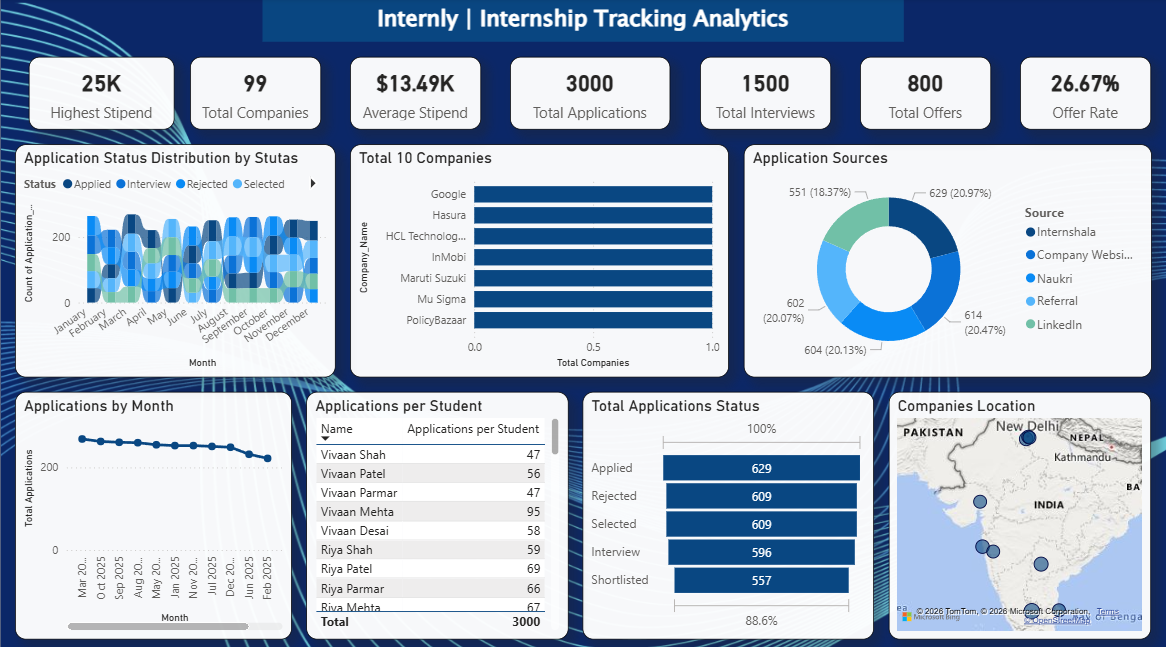

The page's visual inventory and layout, read from the dashboard file:
{"tool":"powerbi","page":{"name":"Page 1","canvas":[1280,720],"ordinal":0},"visuals":[{"type":"card","fields":{"Values":["applications.Total Applications"]},"box":[560,64,176,80],"z":0},{"type":"lineChart","title":"Applications by Month","fields":{"Y":["applications.Total Applications"],"Category":["applications.Month"]},"box":[16,432,304,272],"z":0},{"type":"card","fields":{"Values":["companies.Total Companies"]},"box":[208,64,144,80],"z":1000},{"type":"clusteredBarChart","title":"Total 10 Companies ","fields":{"Category":["companies.Company_Name"],"Y":["companies.Total Companies"]},"box":[384,160,416,256],"z":1000},{"type":"card","fields":{"Values":["interviews.Total Interviews"]},"box":[768,64,144,80],"z":2000},{"type":"donutChart","title":"Application Sources","fields":{"Category":["applications.Source"],"Y":["applications.Total Applications"]},"box":[816,160,448,256],"z":2000},{"type":"card","fields":{"Values":["offers.Total Offers"]},"box":[944,64,144,80],"z":3000},{"type":"ribbonChart","title":"Application Status Distribution by Stutas","fields":{"Category":["applications.Applied_Date.Variation.Date Hierarchy.Month"],"Y":["CountNonNull(applications.Application_ID)"],"Series":["applications.Status"]},"box":[16,160,352,256],"z":3000},{"type":"card","fields":{"Values":["offers.Offer Rate"]},"box":[1120,64,144,80],"z":4000},{"type":"funnel","title":"Total Applications Status","fields":{"Category":["applications.Status"],"Y":["applications.Total Applications"]},"box":[640,432,320,272],"z":4000},{"type":"card","fields":{"Values":["offers.Average Stipend"]},"box":[384,64,144,80],"z":5000},{"type":"map","title":"Companies Location","fields":{"Category":["companies.Location"],"Size":["companies.Total Companies"]},"box":[976,432,288,272],"z":5000},{"type":"card","fields":{"Values":["offers.Highest Stipend"]},"box":[16,64,160,80],"z":6000},{"type":"tableEx","title":"Applications per Student ","fields":{"Values":["students.Name","students.Applications per Student"]},"box":[336,432,288,272],"z":6000},{"type":"textbox","box":[288,0,704,48],"z":6002}]}

Visuals, with their boxes in screenshot pixels (x1, y1, x2, y2), scaled from the page's 1280x720 canvas onto the 1166x647 screenshot:
card - applications.Total Applications: (left=510, top=58, right=670, bottom=129)
"Applications by Month" lineChart: (left=15, top=388, right=292, bottom=633)
card - companies.Total Companies: (left=189, top=58, right=321, bottom=129)
"Total 10 Companies " clusteredBarChart: (left=350, top=144, right=729, bottom=374)
card - interviews.Total Interviews: (left=700, top=58, right=831, bottom=129)
"Application Sources" donutChart: (left=743, top=144, right=1151, bottom=374)
card - offers.Total Offers: (left=860, top=58, right=991, bottom=129)
"Application Status Distribution by Stutas" ribbonChart: (left=15, top=144, right=335, bottom=374)
card - offers.Offer Rate: (left=1020, top=58, right=1151, bottom=129)
"Total Applications Status" funnel: (left=583, top=388, right=874, bottom=633)
card - offers.Average Stipend: (left=350, top=58, right=481, bottom=129)
"Companies Location" map: (left=889, top=388, right=1151, bottom=633)
card - offers.Highest Stipend: (left=15, top=58, right=160, bottom=129)
"Applications per Student " tableEx: (left=306, top=388, right=568, bottom=633)
textbox: (left=262, top=0, right=904, bottom=43)
